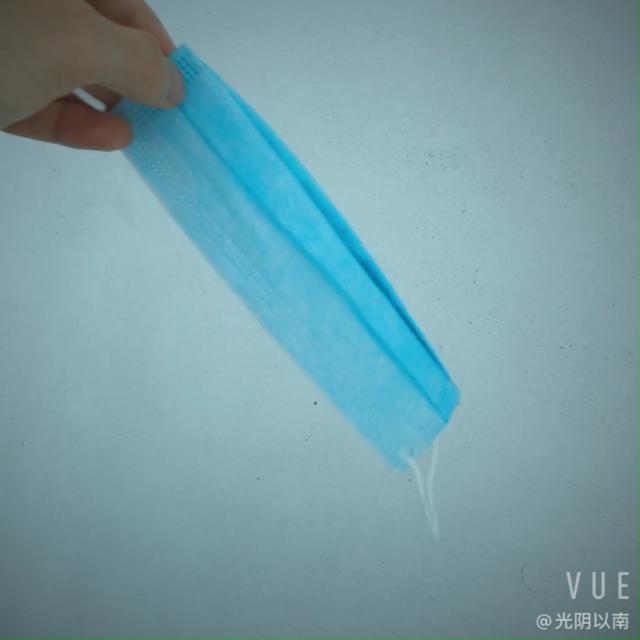face mask: (111, 43, 468, 477)
